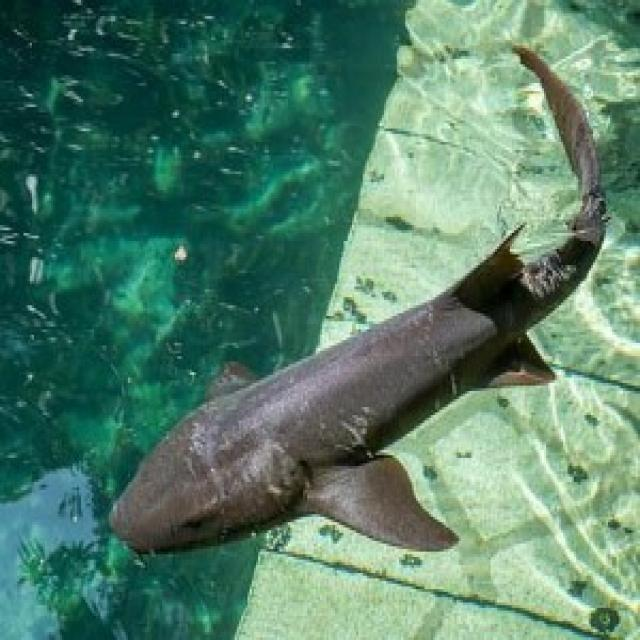Shark: (96, 35, 615, 569)
